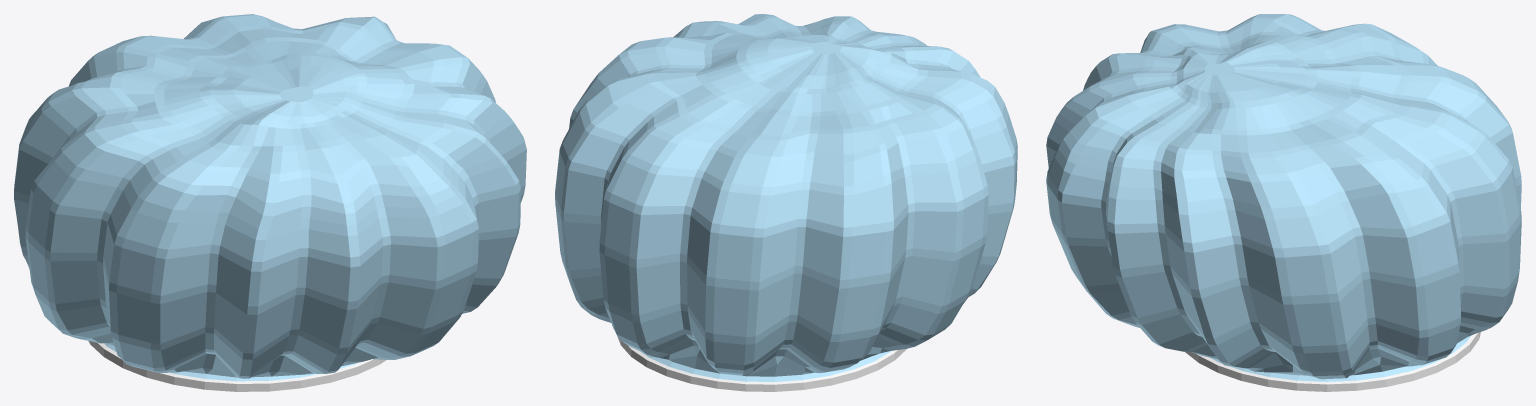
The model's file is Hairnet.fbx.
3 views of the same model, side by side, from view 1: azimuth 30°, elevation 25°; view 2: azimuth 150°, elevation 25°; view 3: azimuth 270°, elevation 25° (orthographic). The views are drawn at different scales.
Parts seen in each view (by area): view 1: Cylinder; view 2: Cylinder; view 3: Cylinder.
Boxes of the visible parts, box(x1,y1,x2,y2) form: Cylinder: box(14, 14, 526, 391); Cylinder: box(555, 14, 1017, 391); Cylinder: box(1046, 14, 1521, 391).
Bounding box in the file's own units: 0.5661 × 0.5642 × 0.3332.
